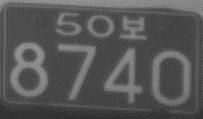0: (151, 48, 192, 108), (87, 13, 114, 38)
4: (103, 46, 143, 105)
5: (55, 11, 81, 36)
7: (56, 42, 96, 101)
8: (9, 40, 48, 98)
보: (118, 15, 148, 41)
